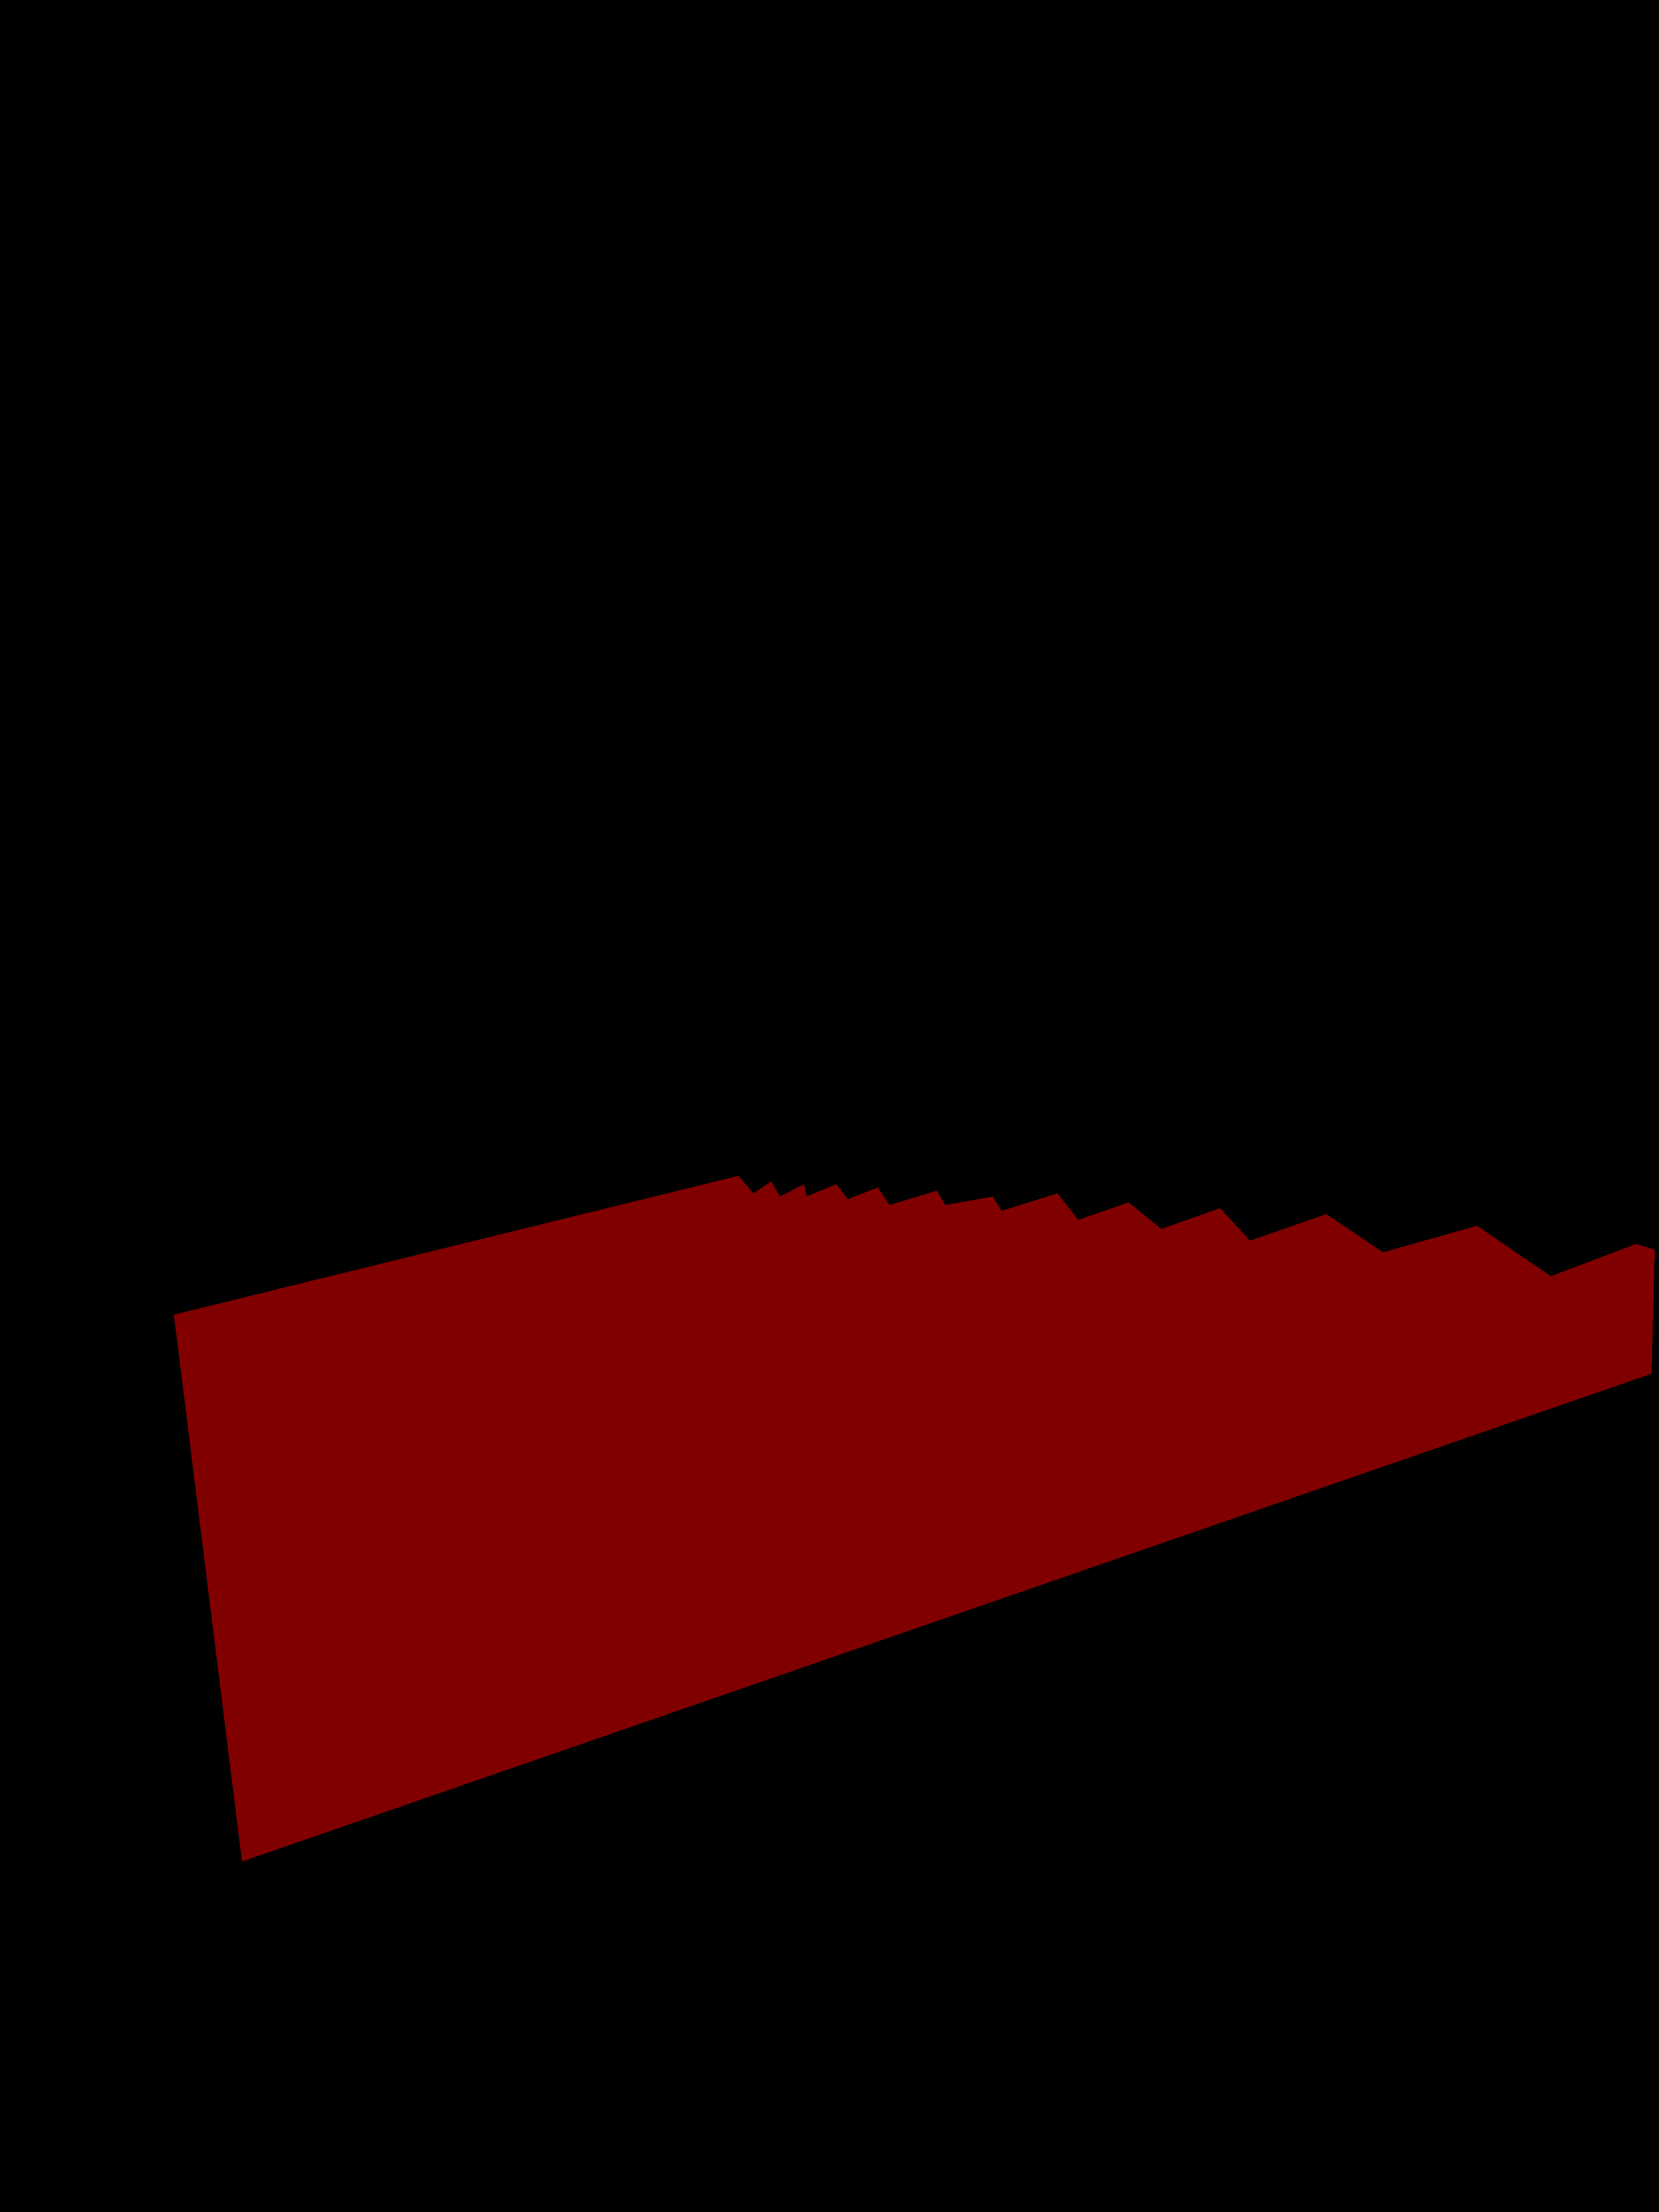stair: (174, 1176, 1654, 1862)
